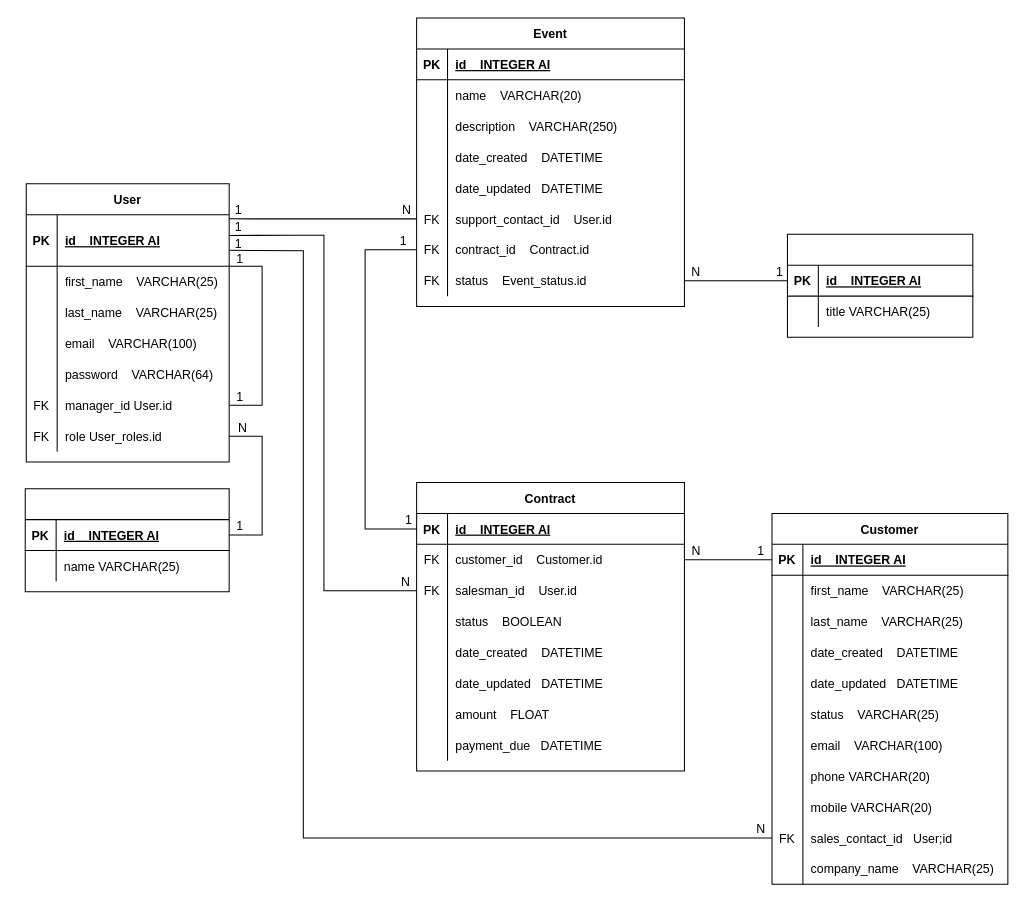
This 1026x902 diagram has some shape labels left out. The box of each missing label's shape, as (x1, y1, x2, y2) in pixels:
Event_status: (786, 233, 973, 337)
User_roles: (24, 488, 229, 592)
